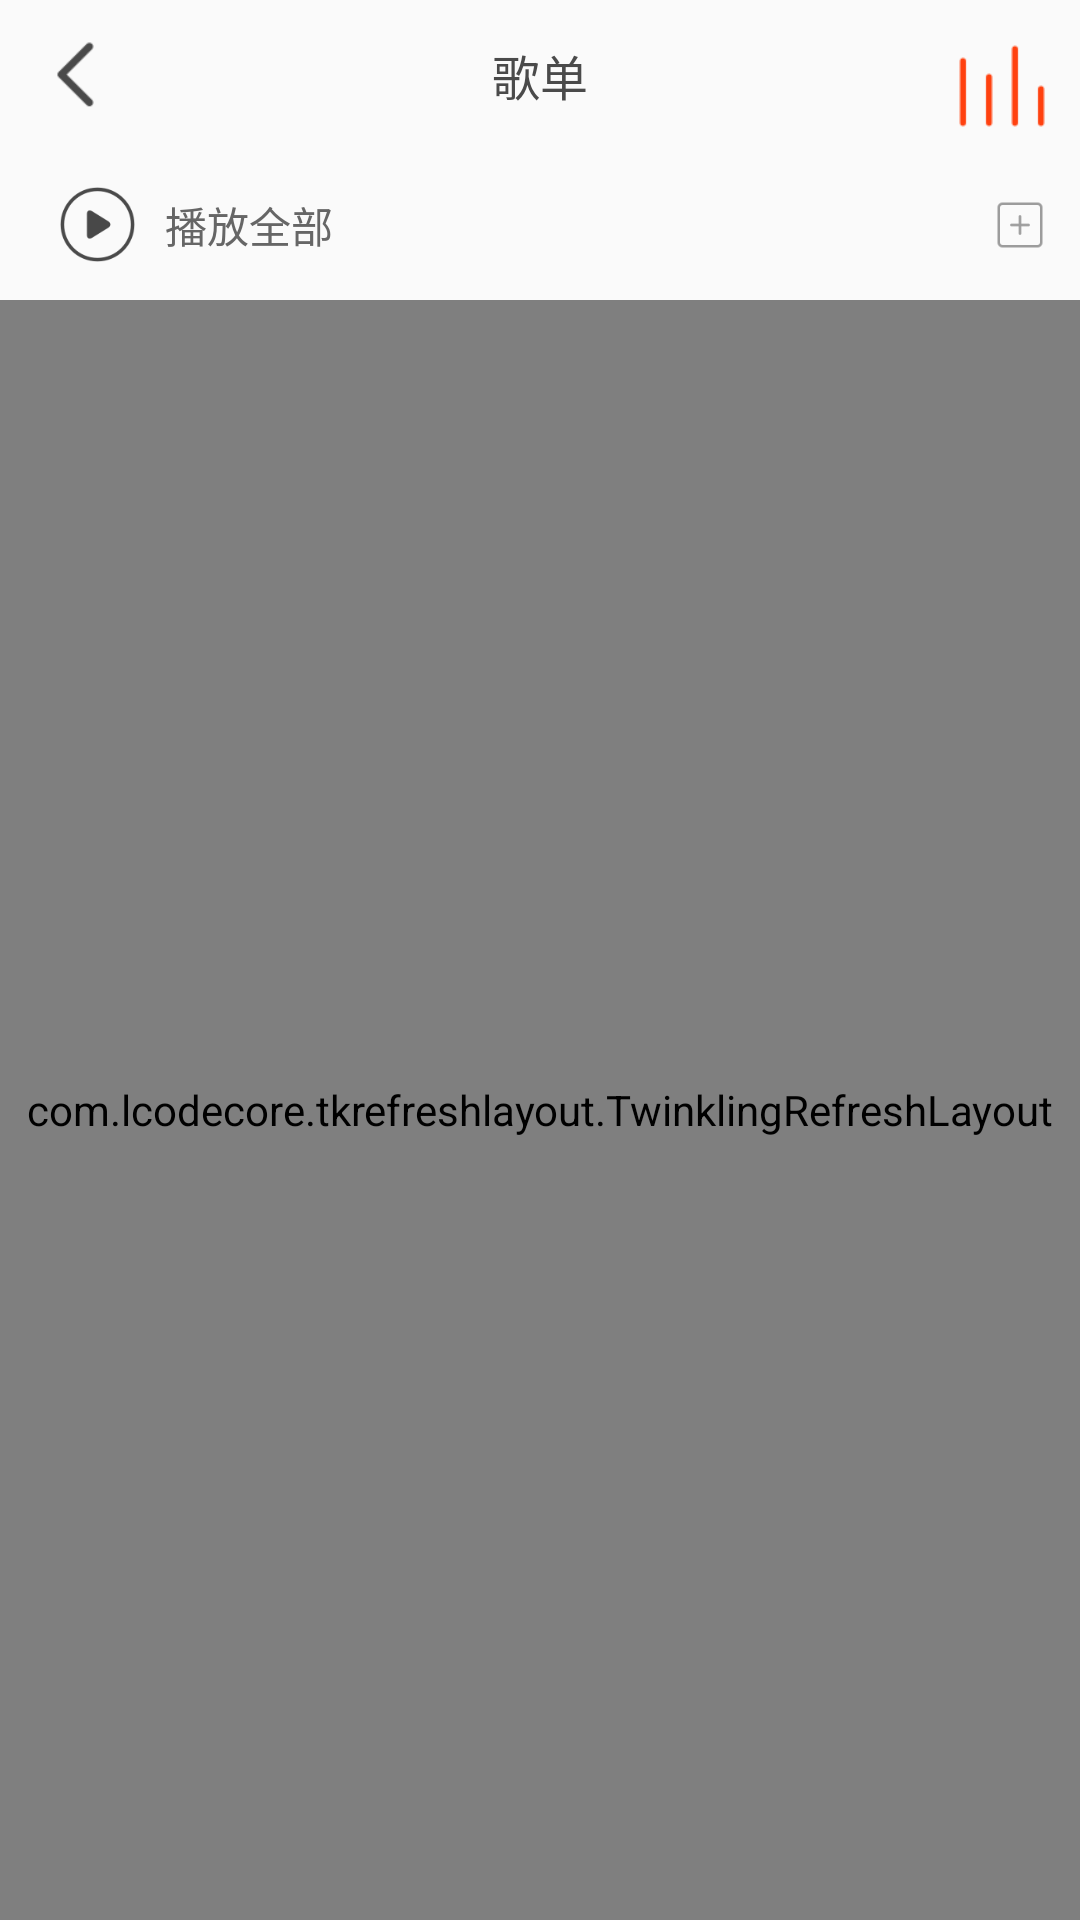

Point at icon controls on the screen. Image size 1080x1920, points as (x,y).
equalizer: (1002,86)
lisong add: (1020,225)
lisong play: (97,224)
lisong toleft: (75,74)
